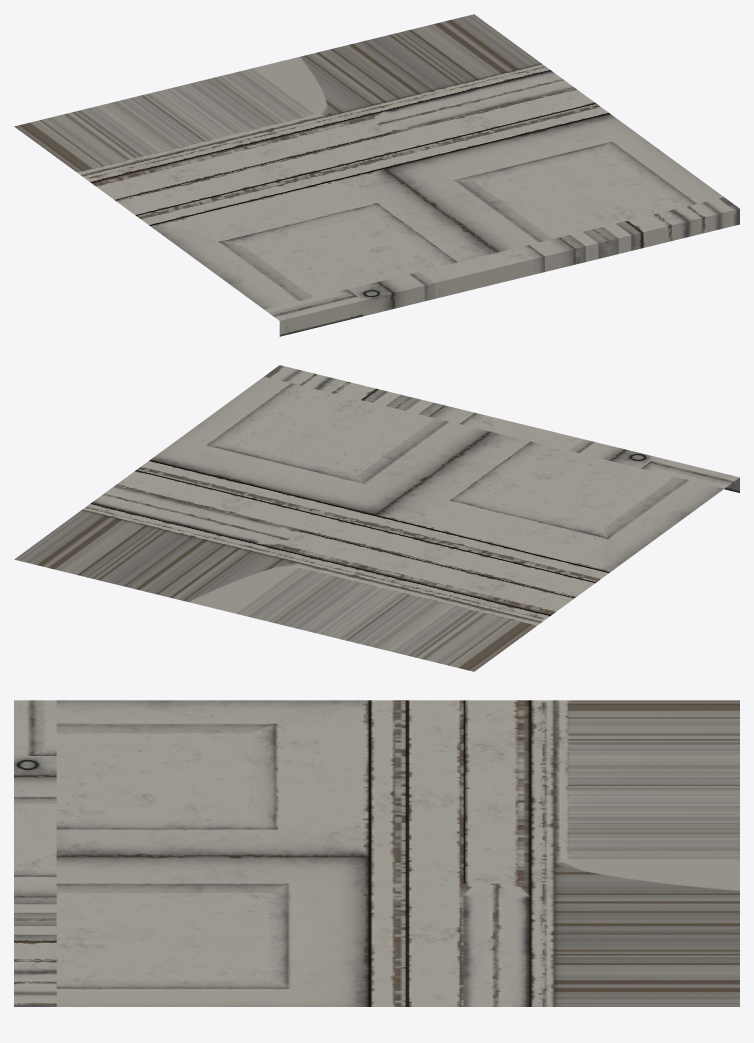
Rendered from SideWalk_2.fbx.
3 renders of one model, top to bottom at view 1: azimuth 30°, elevation 25°; view 2: azimuth 150°, elevation 25°; view 3: azimuth 270°, elevation 25°, orthographic. The views are drawn at different scales.
Visible parts, largest first — view 1: SideWalk_2; view 2: SideWalk_2; view 3: SideWalk_2.
Boxes of the visible parts, left/top/right/bottom form: SideWalk_2: left=14, top=14, right=739, bottom=336; SideWalk_2: left=14, top=365, right=739, bottom=671; SideWalk_2: left=14, top=700, right=739, bottom=1006.
Size of the model in its own units: 2 by 0.0656 by 2.
